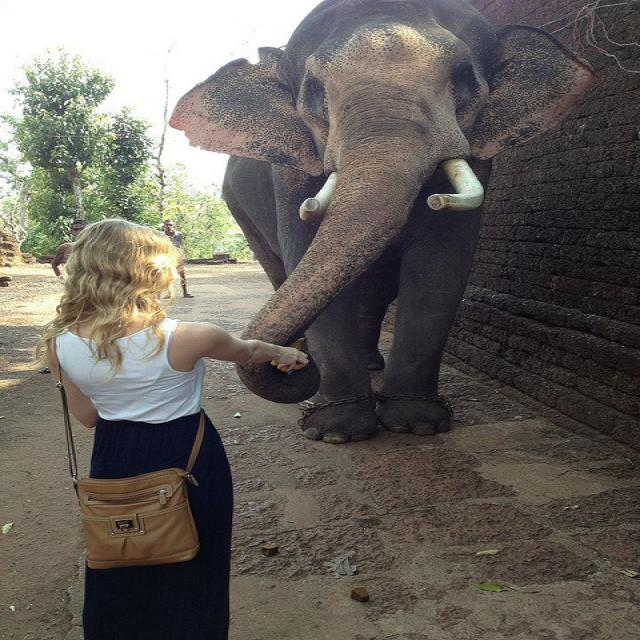Elephant: (169, 0, 596, 444)
person: (35, 218, 309, 639)
